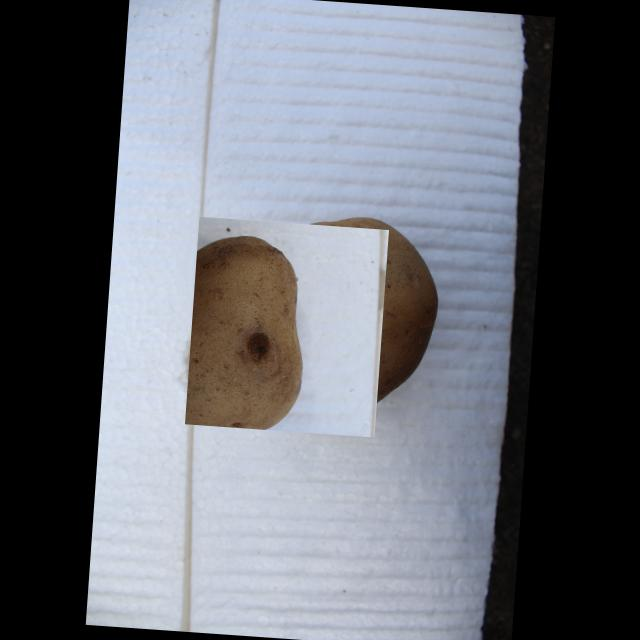Damaged potato: (184, 215, 388, 436)
